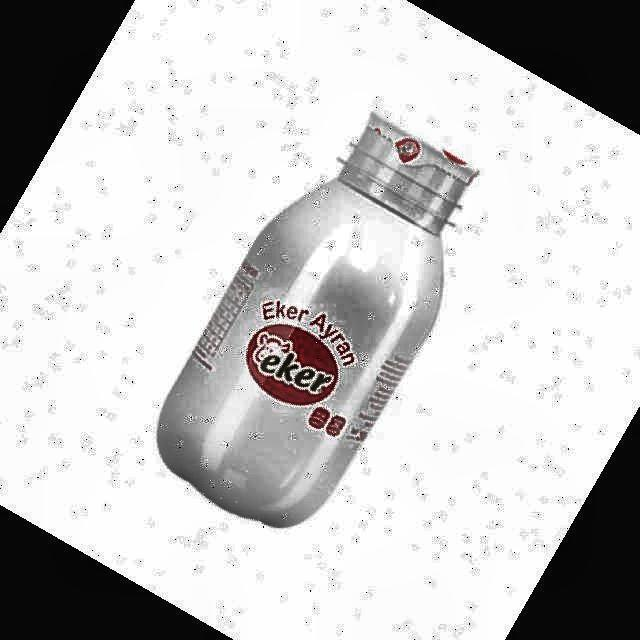plastic: (159, 114, 478, 526)
